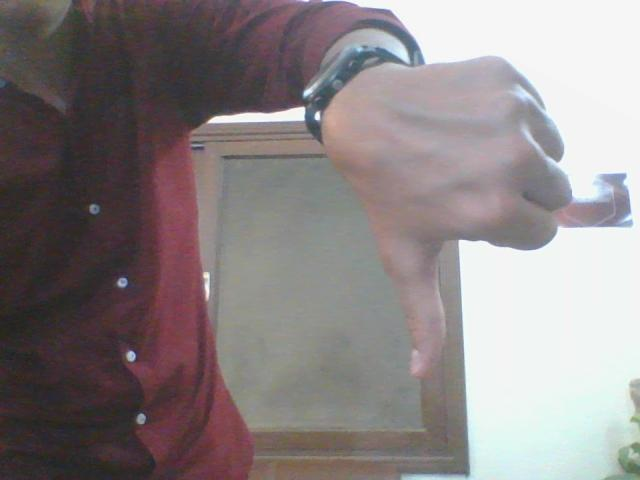thumbs-down: (389, 54, 582, 373)
